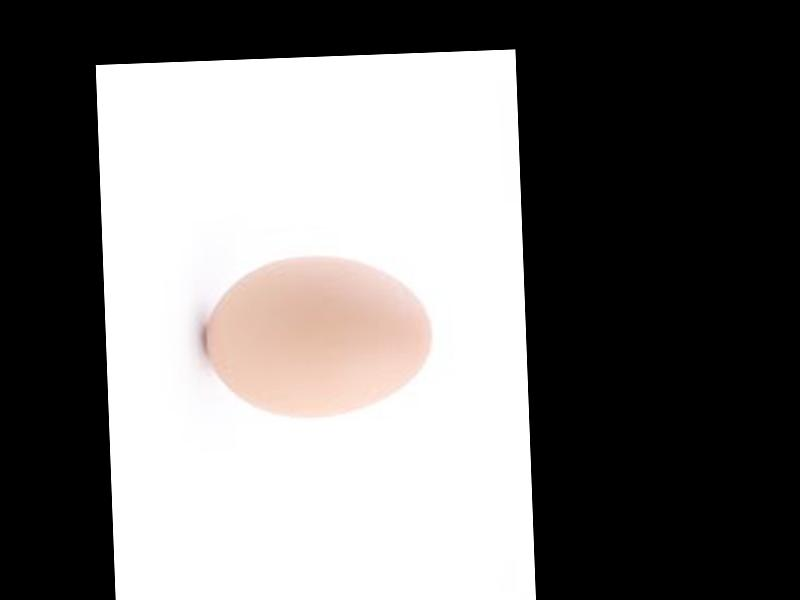Eggs: (203, 249, 436, 419)
